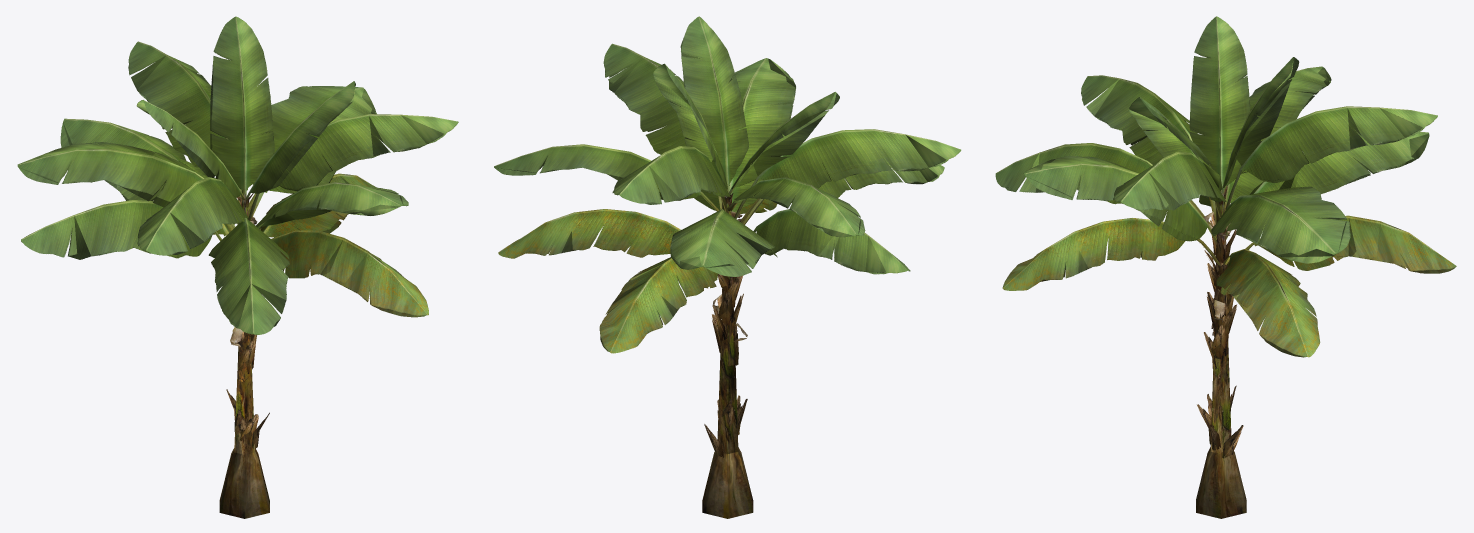
The model's file is MK4_BananaTree1.DAE.
3 views of the same model, side by side, from view 1: azimuth 30°, elevation 25°; view 2: azimuth 150°, elevation 25°; view 3: azimuth 270°, elevation 25° (orthographic).
Visible parts, largest first — view 1: MK4_BananaTree150, MK4_BananaTree100; view 2: MK4_BananaTree150, MK4_BananaTree100; view 3: MK4_BananaTree150, MK4_BananaTree100.
Boxes of the visible parts, x1,y1,x2,y2 form: MK4_BananaTree150: (17,16,458,518); MK4_BananaTree100: (17,53,458,454); MK4_BananaTree150: (494,16,961,518); MK4_BananaTree100: (494,37,959,455); MK4_BananaTree150: (995,16,1456,518); MK4_BananaTree100: (1005,53,1455,458).
Size of what is drawn, in the model's own units: 29.02 by 29.69 by 32.67.
